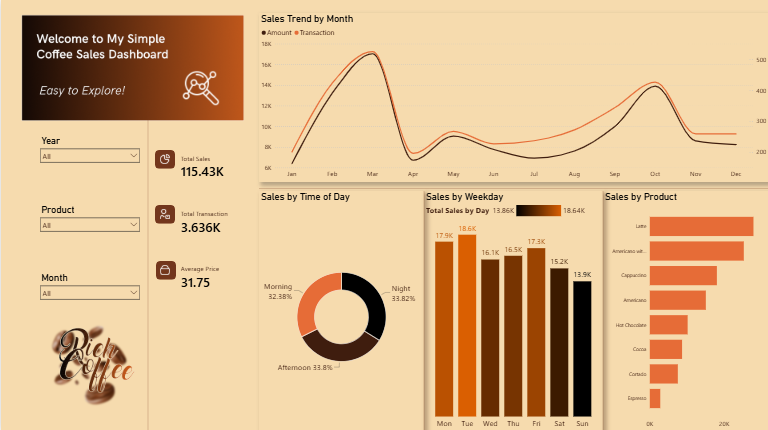

This screenshot's page, from the dashboard's own definition file:
{"tool":"powerbi","page":{"name":"Page 1","canvas":[1920,1080],"ordinal":0},"visuals":[{"type":"lineChart","title":"Sales Trend by Month","fields":{"Category":["Table_1.Month_name"],"Y":["Sum(Table_1.money)"],"Y2":["CountNonNull(Table_1.coffee_name)"]},"box":[646,32,1274,422],"z":0},{"type":"clusteredColumnChart","title":"Sales by Weekday","fields":{"Y":["Sum(Table_1.money)"],"Category":["Table_1.Weekday"]},"box":[1057.5,477.5,447.5,602.5],"z":1000},{"type":"donutChart","title":"Sales by Time of Day","fields":{"Y":["Sum(Table_1.money)"],"Category":["Table_1.Time_of_Day"]},"box":[645,477.5,412.5,602.5],"z":2000},{"type":"shape","box":[645,450,1275,42.5],"z":3000},{"type":"shape","box":[385.3,374,50,46.7],"z":4000},{"type":"image","box":[387,384,45,25],"z":5000},{"type":"cardVisual","fields":{"Data":["Sum(Table_1.money)"]},"box":[432,374,141.7,83.3],"z":6000},{"type":"shape","box":[386.1,512.7,50,46.7],"z":7000},{"type":"image","box":[387.8,522.7,45,25],"z":8000},{"type":"shape","box":[387,651.5,50,46.7],"z":9000},{"type":"cardVisual","fields":{"Data":["CountNonNull(Table_1.coffee_name)"]},"box":[433.5,515.3,162.5,80],"z":10000},{"type":"image","box":[388.6,661.5,45,25],"z":11000},{"type":"cardVisual","fields":{"Data":["Avg(Table_1.money)"]},"box":[433.6,653.2,141.7,81.7],"z":12000},{"type":"clusteredBarChart","title":"Sales by Product","fields":{"Y":["Sum(Table_1.money)"],"Category":["Table_1.coffee_name"]},"box":[1505,477.5,415,602.5],"z":13000},{"type":"shape","box":[1045,477.5,25,602.5],"z":14000},{"type":"shape","box":[1492.5,477.5,25,602.5],"z":15000},{"type":"slicer","fields":{"Values":["Table_1.datetime.Variation.Date Hierarchy.Year"]},"box":[86.3,332.8,270,155],"z":17000},{"type":"shape","box":[355,277.5,25,800],"z":18000},{"type":"slicer","fields":{"Values":["Table_1.coffee_name"]},"box":[86.3,504.1,270,155],"z":19000},{"type":"slicer","fields":{"Values":["Table_1.datetime.Variation.Date Hierarchy.Month"]},"box":[86.3,675.3,270,155],"z":20000}]}

Visuals, with their boxes in screenshot pixels (x1, y1, x2, y2), scaled from the page's 1920x1080 canvas onto the 768x430 screenshot:
"Sales Trend by Month" lineChart: [258, 13, 767, 181]
"Sales by Weekday" clusteredColumnChart: [423, 190, 602, 429]
"Sales by Time of Day" donutChart: [258, 190, 423, 429]
shape: [258, 179, 767, 196]
shape: [154, 149, 174, 168]
image: [155, 153, 173, 163]
cardVisual - Sum(Table_1.money): [173, 149, 229, 182]
shape: [154, 204, 174, 223]
image: [155, 208, 173, 218]
shape: [155, 259, 175, 278]
cardVisual - CountNonNull(Table_1.coffee_name): [173, 205, 238, 237]
image: [155, 263, 173, 273]
cardVisual - Avg(Table_1.money): [173, 260, 230, 293]
"Sales by Product" clusteredBarChart: [602, 190, 767, 429]
shape: [418, 190, 428, 429]
shape: [597, 190, 607, 429]
slicer - Table_1.datetime.Variation.Date Hierarchy.Year: [35, 133, 143, 194]
shape: [142, 110, 152, 429]
slicer - Table_1.coffee_name: [35, 201, 143, 262]
slicer - Table_1.datetime.Variation.Date Hierarchy.Month: [35, 269, 143, 331]
